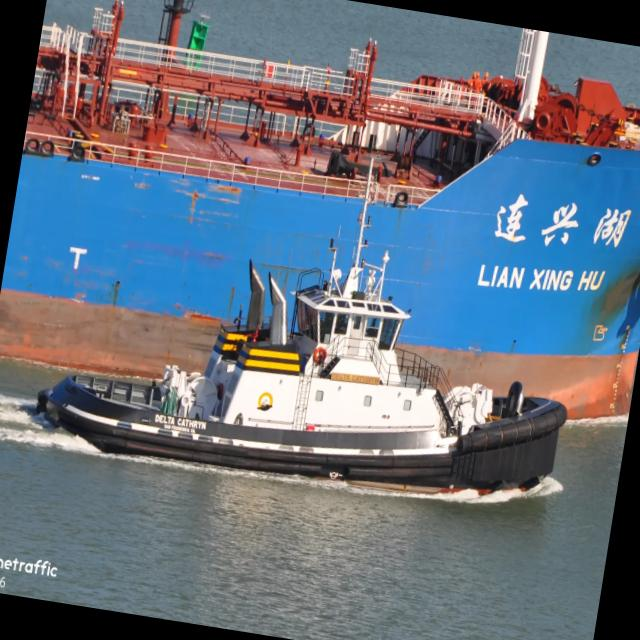Tug: (36, 173, 567, 490)
